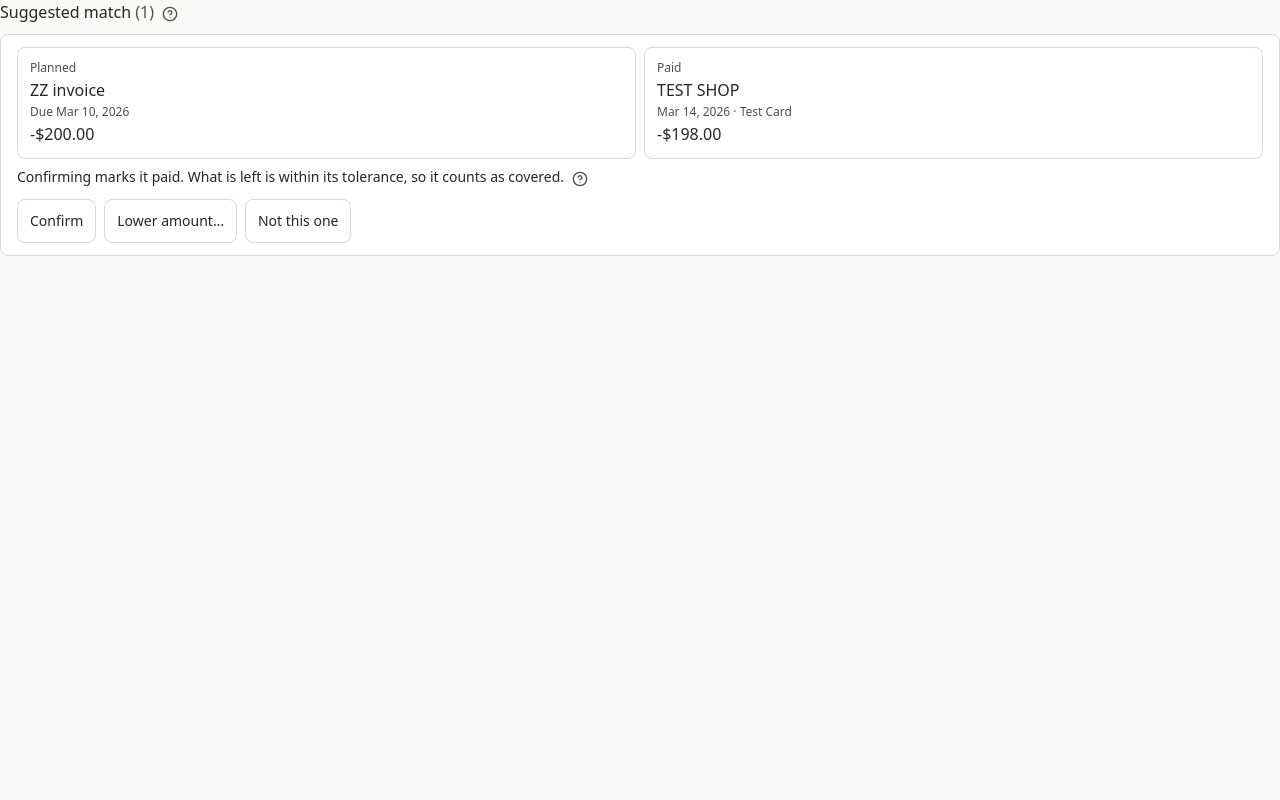
Test: suggested match: the ? shows the working
The image size is (1280, 800).
Click the button named "About Suggested match": (170, 14) [158,2,182,26]
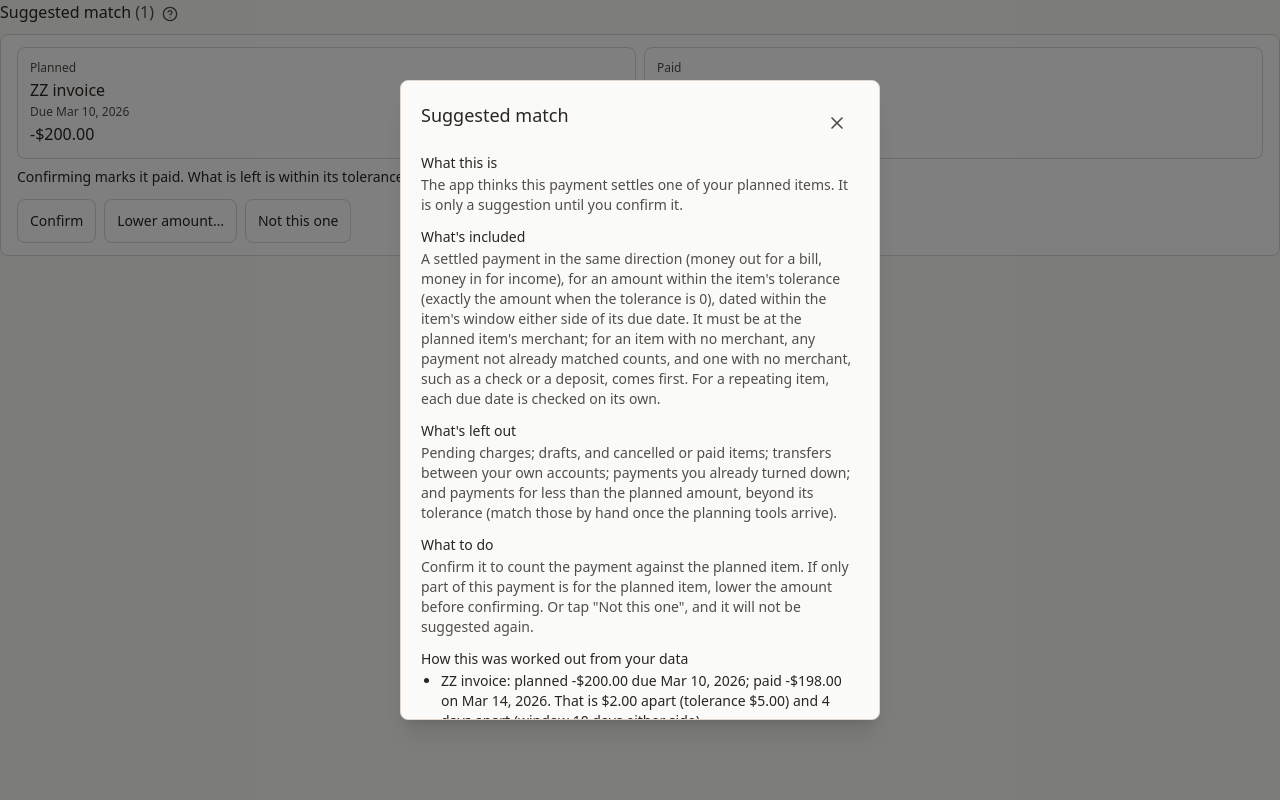
Check: the dialog shows "tolerance", box [421,249,851,408]
